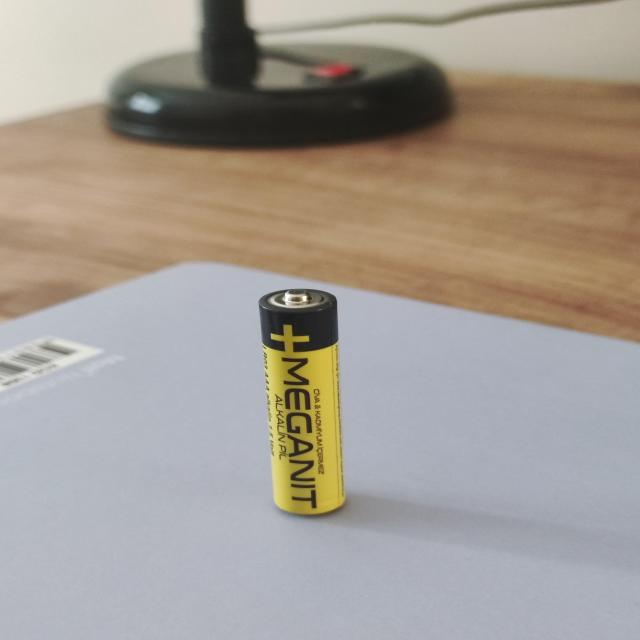AAA: (257, 288, 346, 516)
